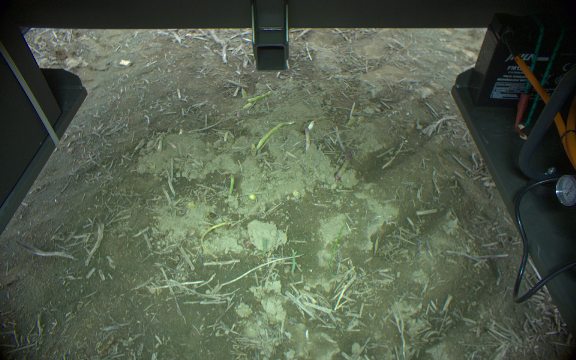aspa: (256, 120, 295, 151), (334, 150, 354, 184), (301, 125, 313, 157), (225, 173, 238, 198), (250, 90, 271, 104)
